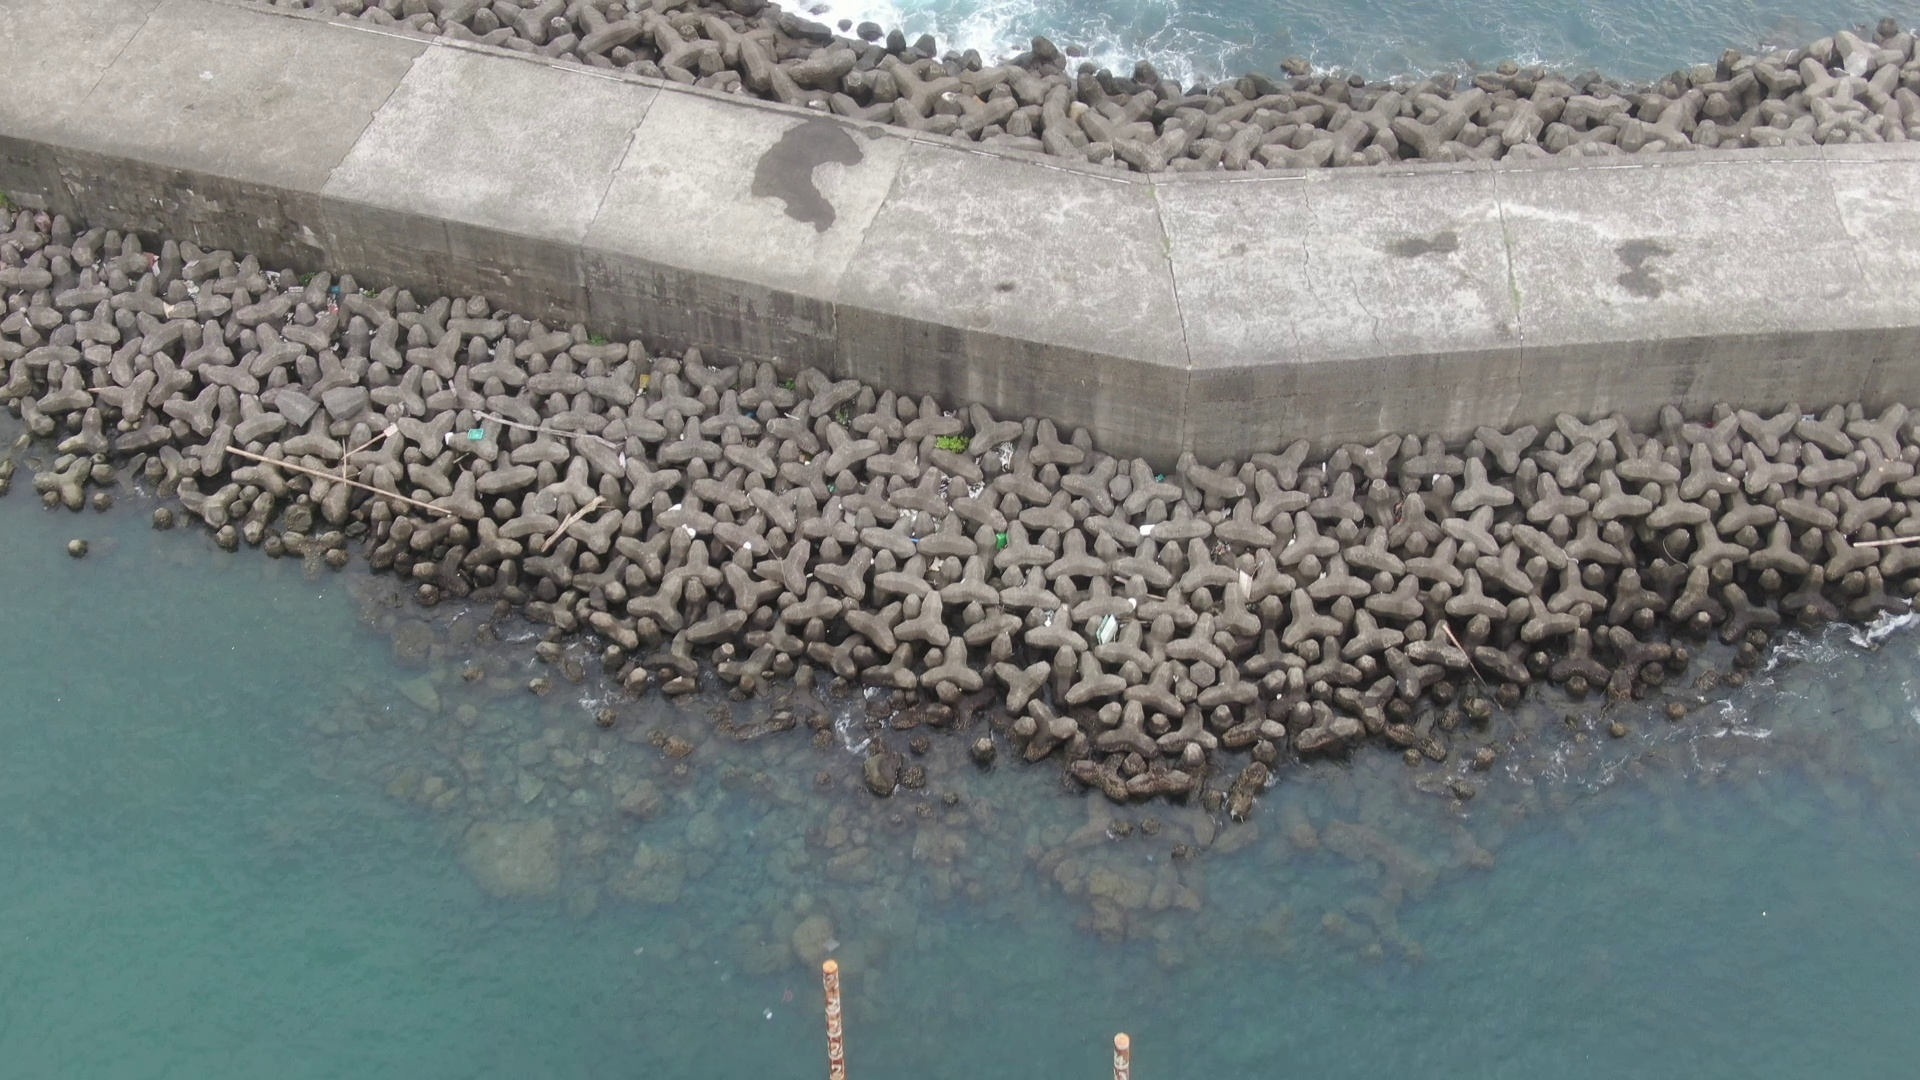garbage: (1083, 607, 1131, 665), (978, 522, 1021, 555), (460, 417, 498, 446)
